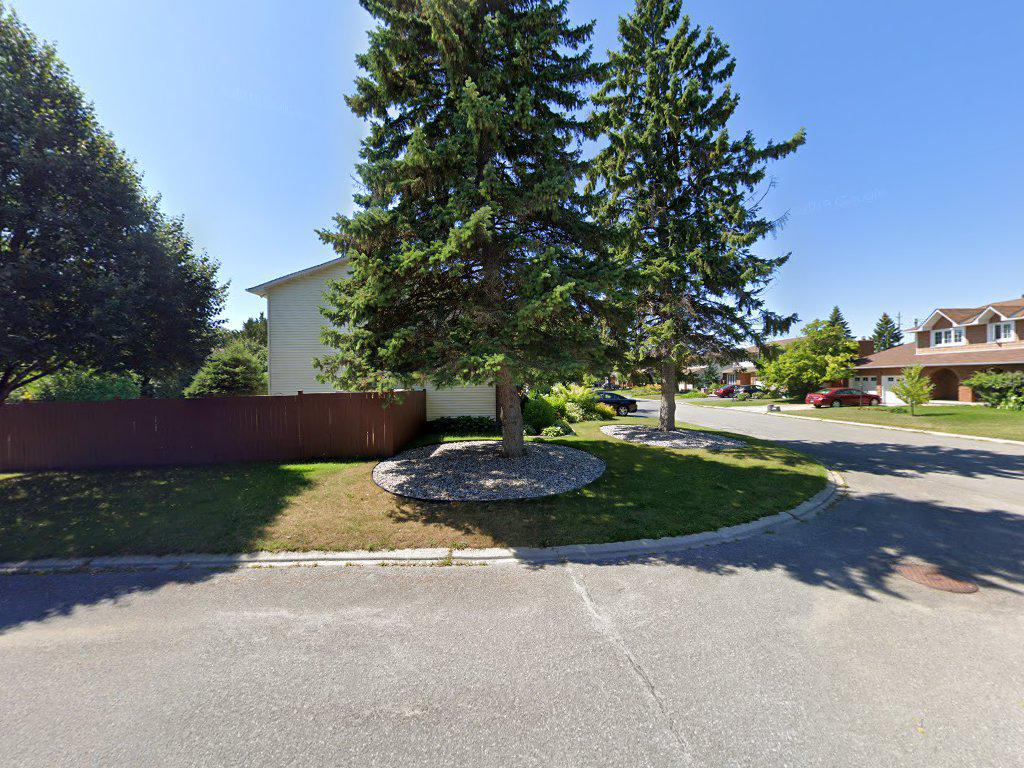trunk: (491, 360, 530, 467), (656, 347, 684, 438)
